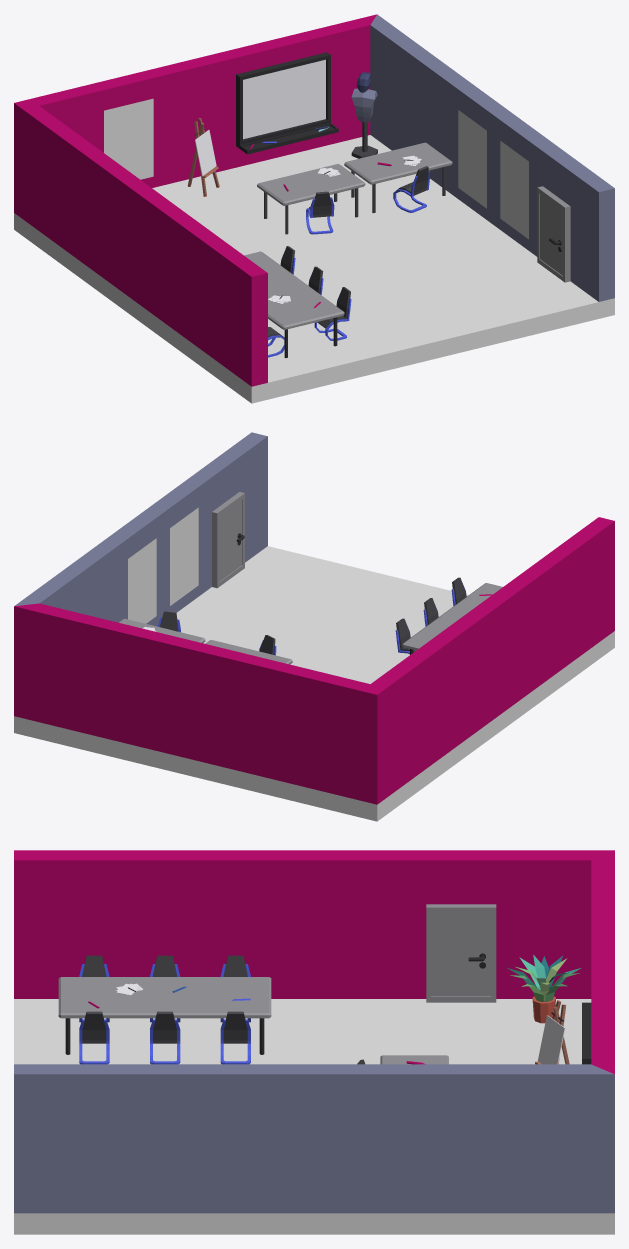
The model's file is Scene_3_DesignRoom.fbx.
3 views of the same model, one above another, from view 1: azimuth 30°, elevation 25°; view 2: azimuth 150°, elevation 25°; view 3: azimuth 270°, elevation 25° (orthographic). The views are drawn at different scales.
Visible parts, largest first — view 1: WallsDesignRoom, BodenDesignRoom, WhiteBoard, Eingangsfloor Tisch, Poster Rechts.006, DesignRoomDoorEntry.001, Eingangsfloor Tisch.003, Eingangsfloor Tisch.002, Poster Rechts.004, Poster Rechts.005, Mannequinn, Staffelei (+3 smaller); view 2: WallsDesignRoom, BodenDesignRoom, DesignRoomDoorEntry.001, Poster Rechts.005, Poster Rechts.004, Eingangsfloor Tisch, Eingangsfloor Tisch.003; view 3: WallsDesignRoom, BodenDesignRoom, Eingangsfloor Tisch, DesignRoomDoorExit, Pflanze Eingang.001, Staffelei, DesignRaumStuhl.005, DesignRaumStuhl.003, DesignRaumStuhl.004, Eingangsfloor Tisch.003, WhiteBoard, DesignRaumStuhl (+2 smaller).
Part boxes in pixels (x1=…): WallsDesignRoom: x1=14, y1=14, x2=614, y2=386; BodenDesignRoom: x1=14, y1=135, x2=614, y2=403; WhiteBoard: x1=236, y1=52, x2=338, y2=154; Eingangsfloor Tisch: x1=244, y1=251, x2=344, y2=357; Poster Rechts.006: x1=104, y1=98, x2=153, y2=179; DesignRoomDoorEntry.001: x1=537, y1=186, x2=570, y2=282; Eingangsfloor Tisch.003: x1=257, y1=164, x2=365, y2=234; Eingangsfloor Tisch.002: x1=344, y1=142, x2=452, y2=213; Poster Rechts.004: x1=458, y1=110, x2=486, y2=208; Poster Rechts.005: x1=500, y1=141, x2=528, y2=239; Mannequinn: x1=351, y1=72, x2=377, y2=158; Staffelei: x1=187, y1=118, x2=219, y2=196; WallsDesignRoom: x1=14, y1=432, x2=614, y2=804; BodenDesignRoom: x1=14, y1=546, x2=614, y2=821; DesignRoomDoorEntry.001: x1=212, y1=492, x2=244, y2=588; Poster Rechts.005: x1=170, y1=507, x2=198, y2=605; Poster Rechts.004: x1=128, y1=538, x2=156, y2=623; Eingangsfloor Tisch: x1=402, y1=583, x2=502, y2=654; Eingangsfloor Tisch.003: x1=205, y1=640, x2=292, y2=664; WallsDesignRoom: x1=14, y1=850, x2=614, y2=1213; BodenDesignRoom: x1=14, y1=999, x2=614, y2=1234; Eingangsfloor Tisch: x1=58, y1=977, x2=271, y2=1054; DesignRoomDoorExit: x1=426, y1=904, x2=496, y2=1002; Pflanze Eingang.001: x1=506, y1=954, x2=581, y2=1023; Staffelei: x1=535, y1=1000, x2=569, y2=1064; DesignRaumStuhl.005: x1=220, y1=1011, x2=250, y2=1064; DesignRaumStuhl.003: x1=79, y1=1011, x2=109, y2=1064; DesignRaumStuhl.004: x1=150, y1=1011, x2=180, y2=1064; Eingangsfloor Tisch.003: x1=380, y1=1055, x2=448, y2=1064; WhiteBoard: x1=582, y1=1002, x2=591, y2=1064; DesignRaumStuhl: x1=79, y1=955, x2=109, y2=1022.
Bounding box in the file's own units: 2250 × 750 × 2550.
Materials: 1 (1 with a texture image).
